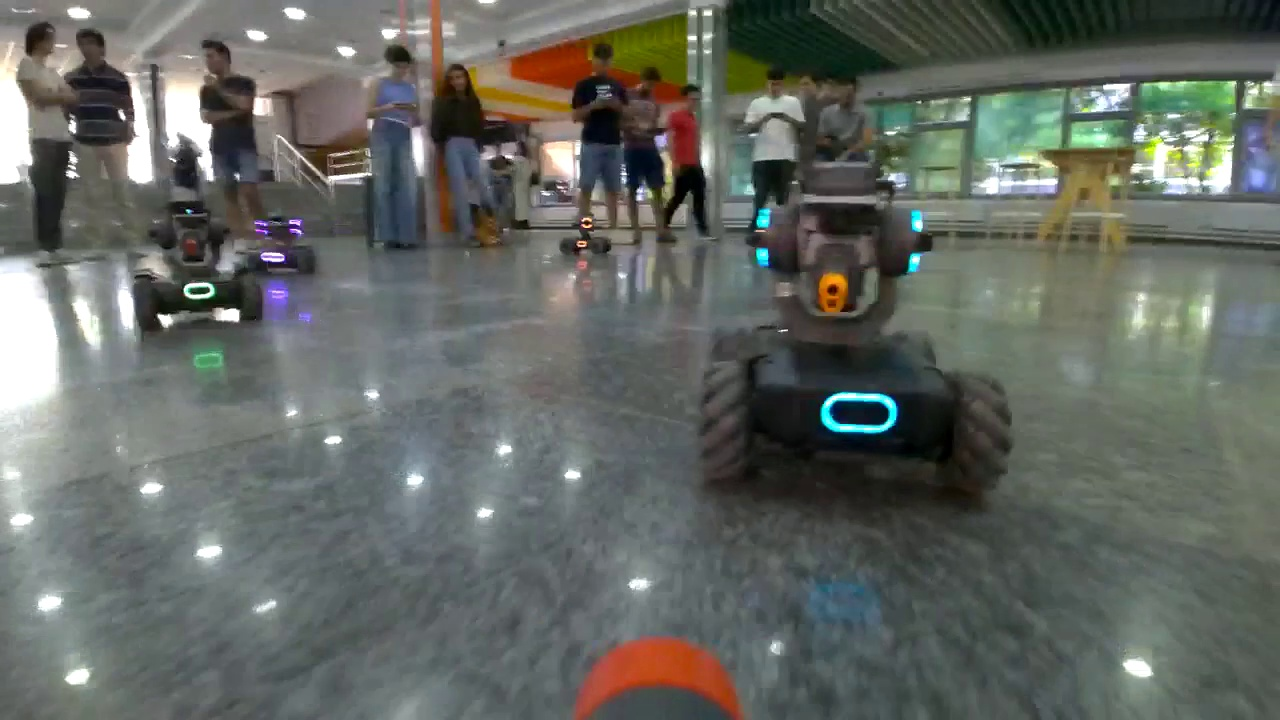robot: (706, 162, 1013, 500), (133, 197, 266, 325), (247, 217, 318, 275), (560, 212, 614, 259)
